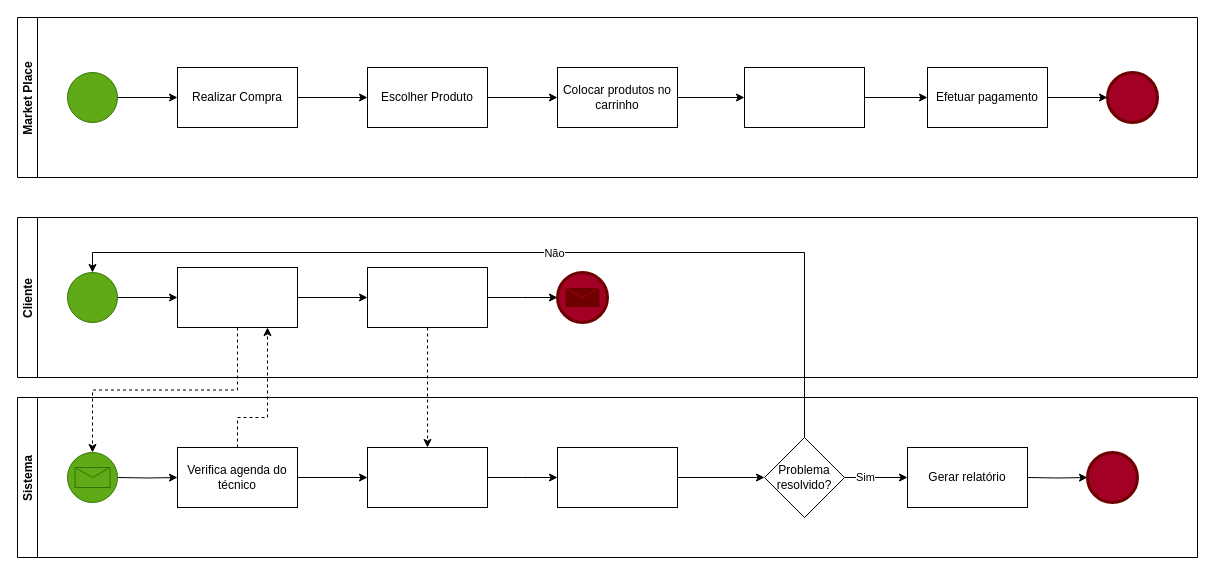
This 1215x575 diagram has some shape labels left out. The shapes that lost their labels are listed below. From the top down, each one's centre as x and y in pixels, then its label:
the point at 804,97: Preencher dados pessoais
the point at 237,297: Solicitar atendimento técnico
the point at 427,297: Seleciona data e horário de atendimento
the point at 427,477: Agendar atendimento
the point at 617,477: Realizar atendimento
